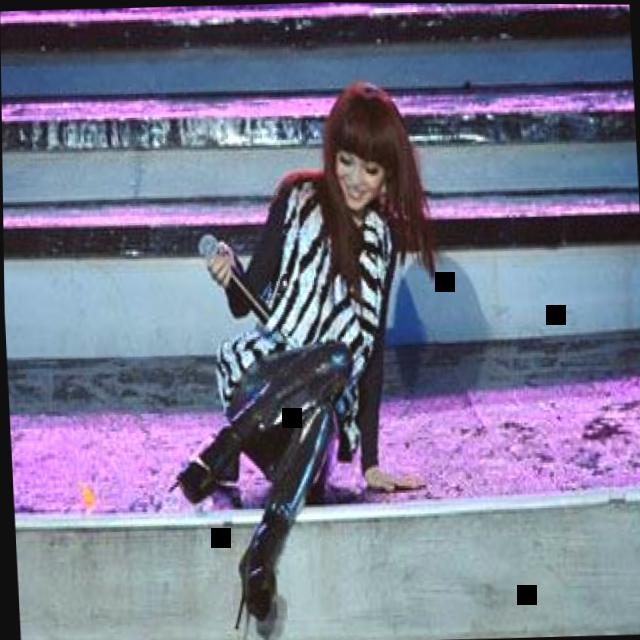Fall-Detected: (142, 75, 465, 634)
